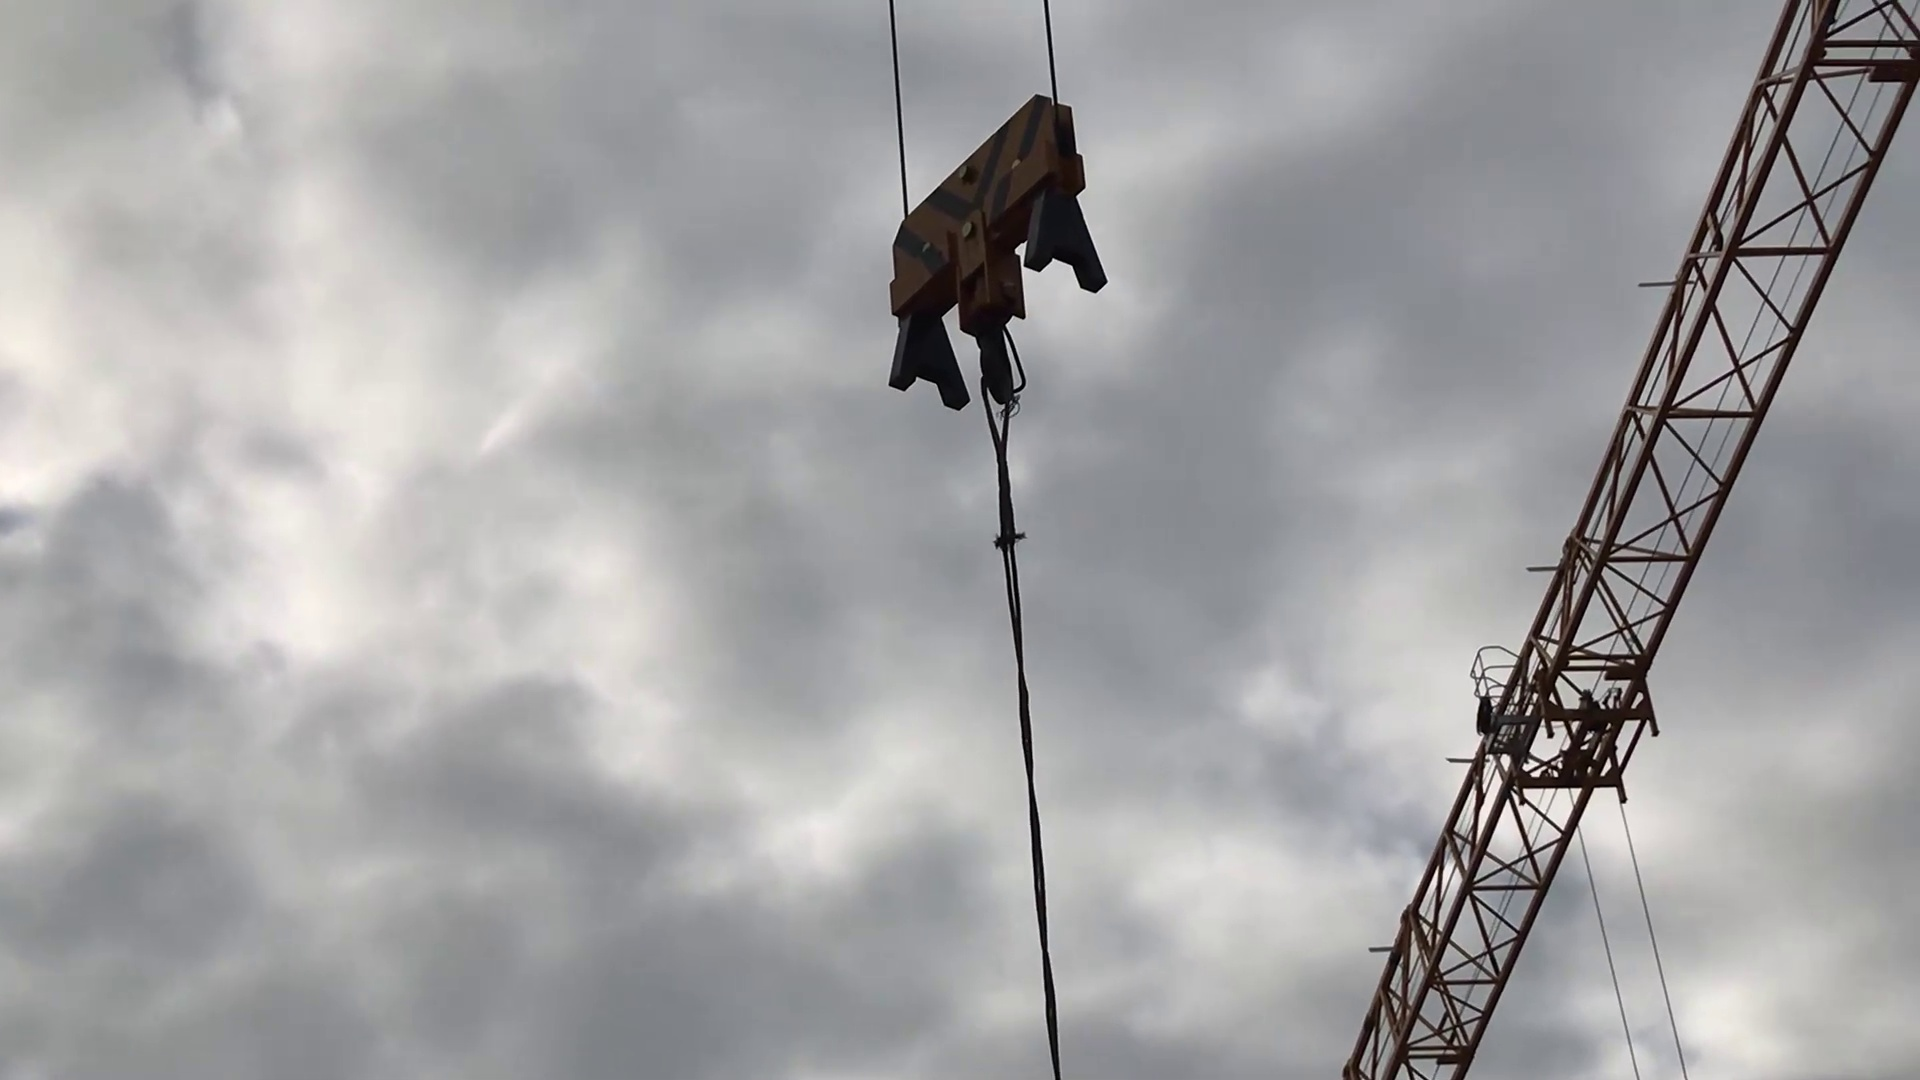hook: (880, 90, 1121, 417)
